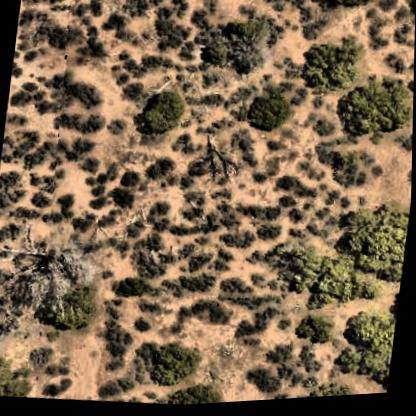tree-top: (278, 242, 367, 312), (9, 232, 99, 301), (338, 205, 411, 287), (337, 78, 412, 144), (337, 305, 397, 387), (296, 35, 367, 104), (201, 14, 273, 80), (140, 337, 202, 396), (44, 279, 102, 339), (136, 83, 188, 142), (243, 86, 295, 142), (291, 309, 339, 355), (0, 349, 35, 398), (313, 0, 381, 21), (173, 382, 226, 408), (298, 385, 358, 402), (407, 1, 416, 22)
